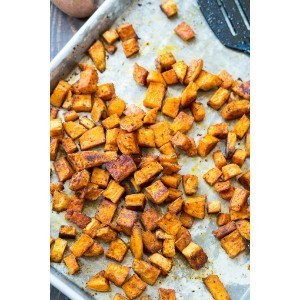sweet potato_brain food: (54, 45, 235, 268)
